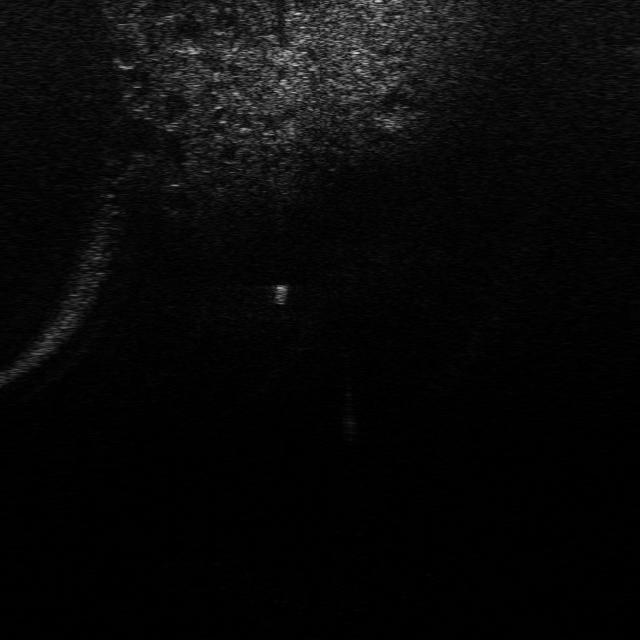cylinder: (270, 278, 290, 308)
